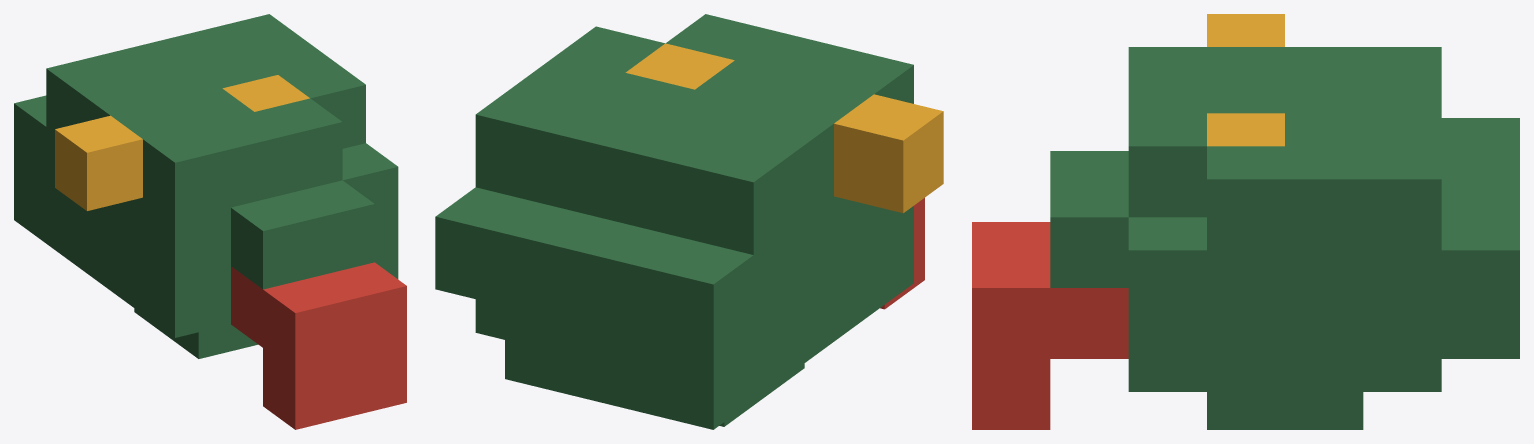
The model's file is snake__head.glb.
The picture shows the model from 3 angles, left to right: view 1: azimuth 30°, elevation 25°; view 2: azimuth 150°, elevation 25°; view 3: azimuth 270°, elevation 25°; orthographic projection. The views are drawn at different scales.
Visible parts, largest first — view 1: snake__head; view 2: snake__head; view 3: snake__head.
Boxes of the visible parts, bbox=[...] form: snake__head: bbox=[14, 14, 406, 429]; snake__head: bbox=[435, 14, 943, 429]; snake__head: bbox=[972, 14, 1519, 429].
Size of the model in its own units: 0.5 by 0.4 by 0.7.
1 material, 1 textured.
